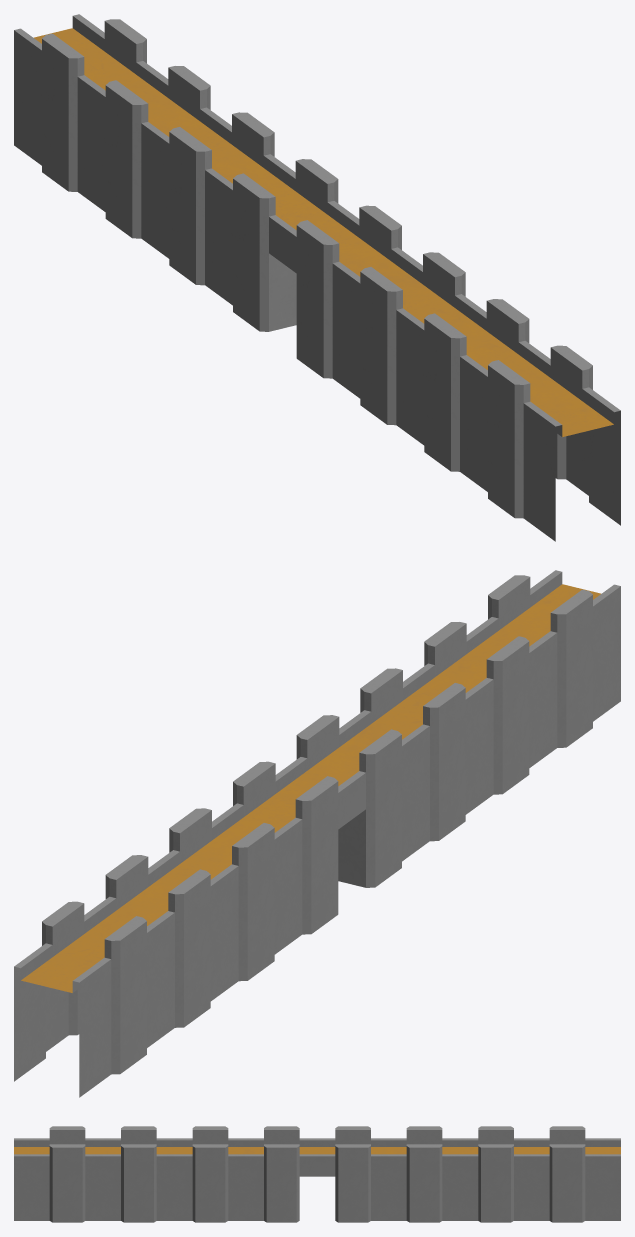
Rendered from Castle Wall Export.obj.
3 renders of one model, top to bottom at view 1: azimuth 30°, elevation 25°; view 2: azimuth 150°, elevation 25°; view 3: azimuth 270°, elevation 25°, orthographic. The views are drawn at different scales.
Parts seen in each view (by area): view 1: Castle_Wall_UV3; view 2: Castle_Wall_UV3; view 3: Castle_Wall_UV3.
Part boxes in pixels (x1,y1,x2,y2): Castle_Wall_UV3: (14, 14, 620, 541); Castle_Wall_UV3: (14, 570, 620, 1097); Castle_Wall_UV3: (14, 1126, 620, 1222).
Bounding box in the file's own units: 2.04 × 3.32 × 24.4.
